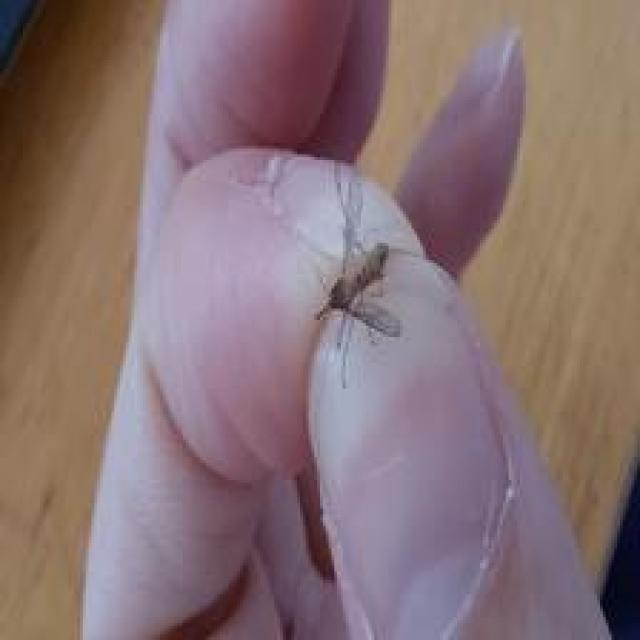Culex: (311, 177, 403, 389)
